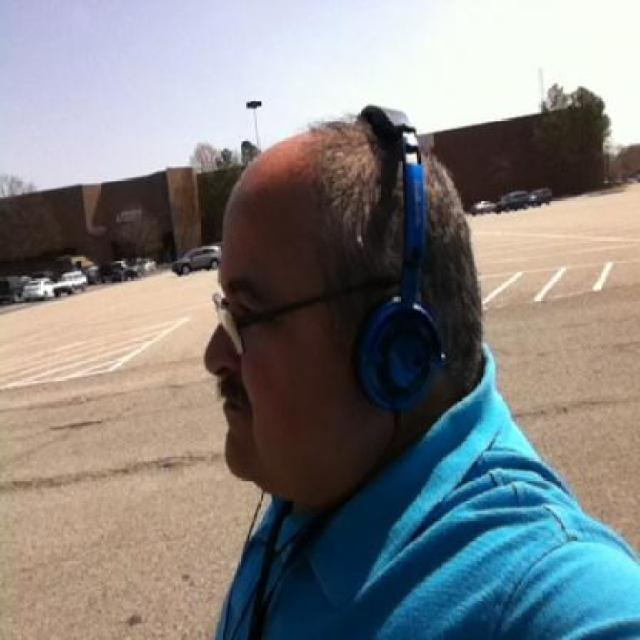earphone: (347, 72, 438, 383)
